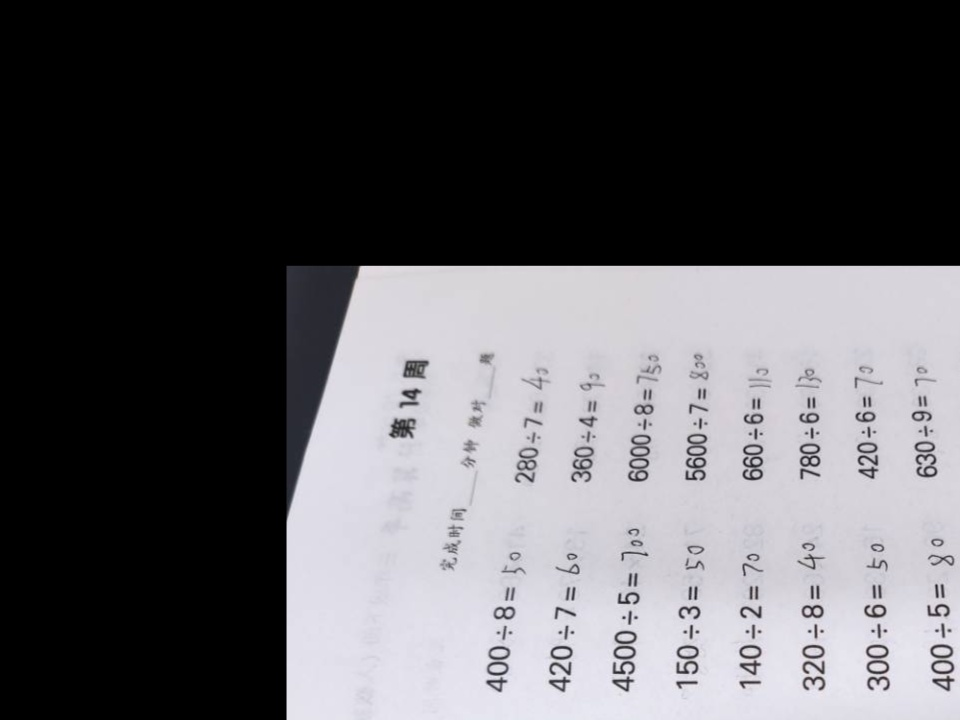equation: (600, 514, 656, 700), (544, 533, 598, 704), (791, 530, 843, 698), (854, 533, 905, 703), (666, 535, 719, 698), (728, 531, 779, 695), (618, 340, 672, 493), (484, 527, 532, 696), (914, 532, 960, 703), (733, 353, 787, 492), (676, 340, 725, 489), (511, 354, 564, 491), (904, 352, 954, 492), (844, 355, 892, 490), (565, 355, 612, 492), (792, 356, 838, 492), (955, 353, 960, 493)
